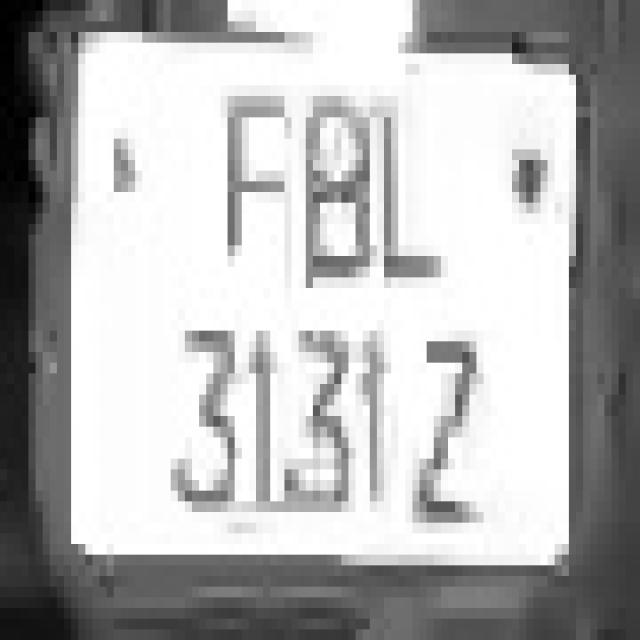1: (234, 288, 298, 555), (348, 277, 398, 576)
3: (163, 256, 249, 533), (277, 299, 370, 544)
B: (292, 64, 362, 299)
F: (199, 53, 292, 299)
L: (342, 64, 462, 299)
Z: (398, 299, 505, 576)
